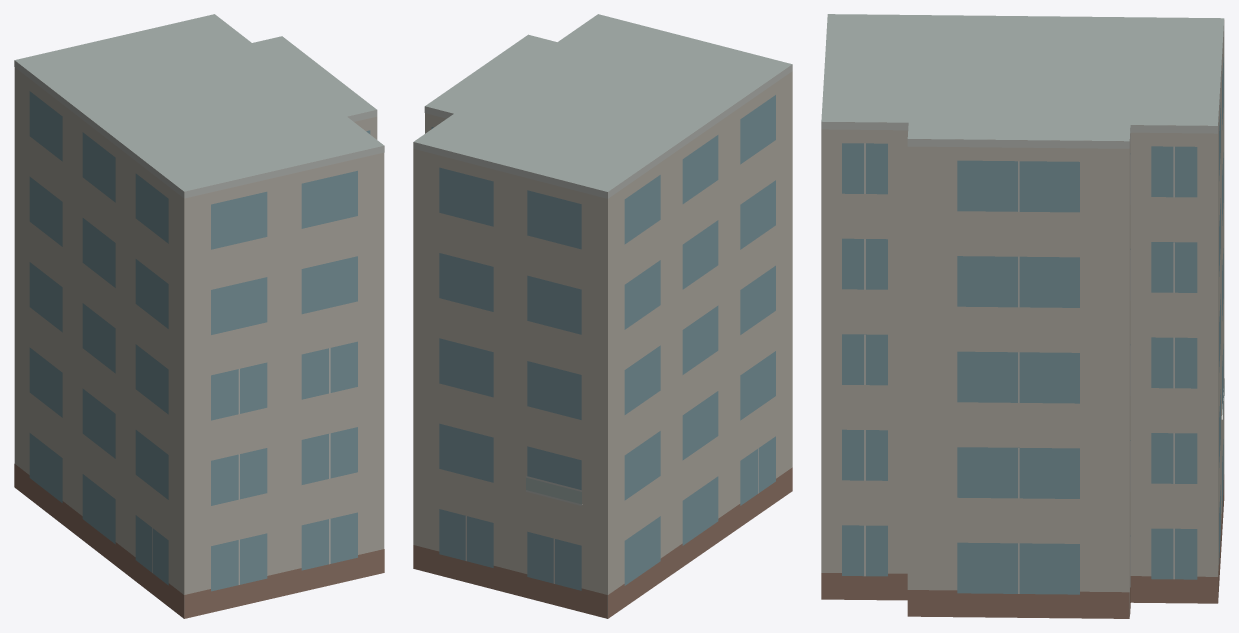
File: survey-upis-32620605.glb
3 views of the same model, side by side, from view 1: azimuth 30°, elevation 25°; view 2: azimuth 150°, elevation 25°; view 3: azimuth 270°, elevation 25° (orthographic). The views are drawn at different scales.
Parts seen in each view (by area): view 1: survey-upis-32620605.tmp; view 2: survey-upis-32620605.tmp; view 3: survey-upis-32620605.tmp.
Part boxes in pixels (x1,y1,x2,y2): survey-upis-32620605.tmp: (14,14,384,618); survey-upis-32620605.tmp: (413,14,792,618); survey-upis-32620605.tmp: (821,14,1224,618).
Size of the model in its own units: 8.72 by 15.25 by 11.68.
